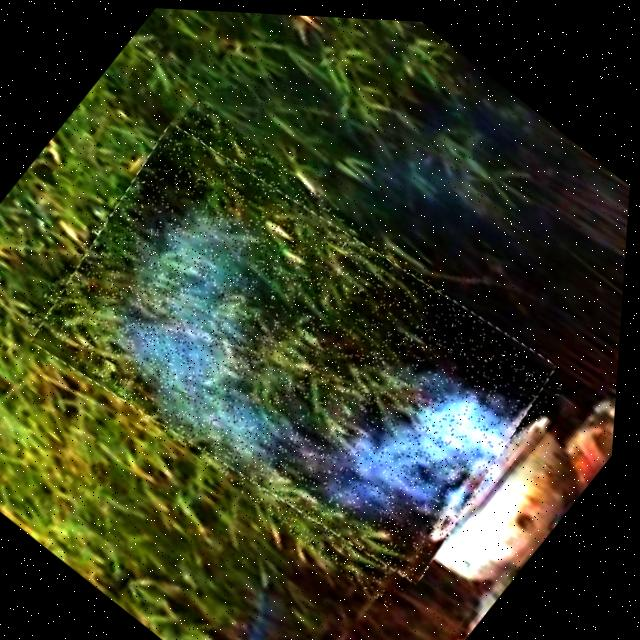Smoke: (11, 89, 583, 610)
